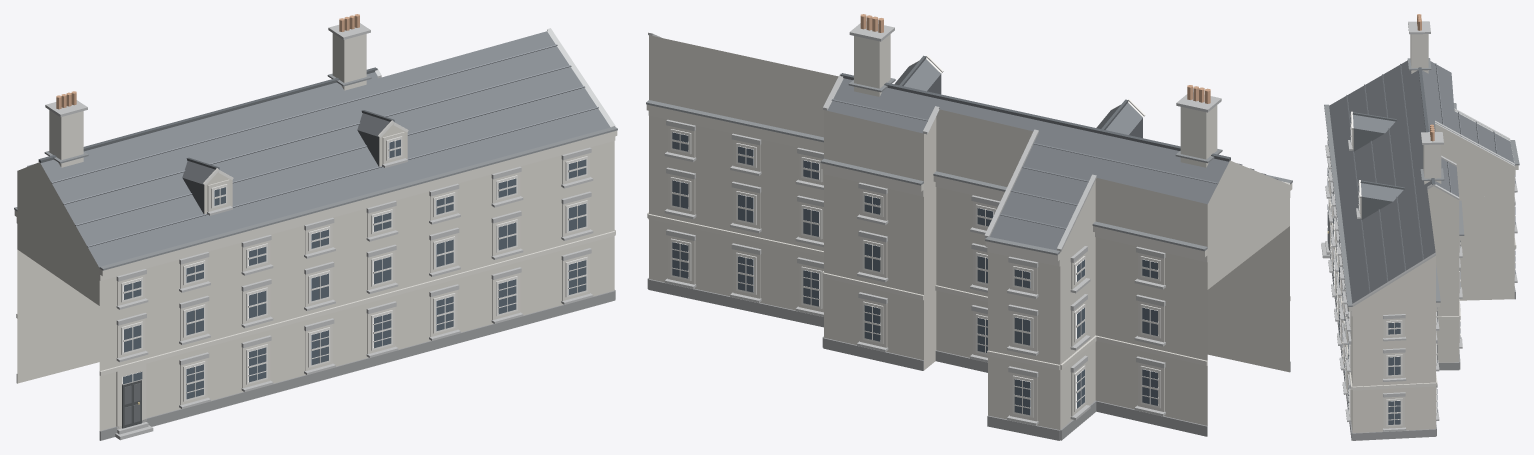
The picture shows the model from 3 angles, left to right: view 1: azimuth 30°, elevation 25°; view 2: azimuth 150°, elevation 25°; view 3: azimuth 270°, elevation 25°; orthographic projection. The views are drawn at different scales.
Parts seen in each view (by area): view 1: harl_grey, slate, string, stone_band, frame, plinth, slate_lt, chim_render, lead, slate_dk, pot, door_dark_p; view 2: harl_grey, slate, string, stone_band, frame, plinth, chim_render, lead, slate_dk, slate_lt, pot; view 3: harl_grey, slate, stone_band, string, frame, lead, slate_lt, slate_dk, chim_render, plinth, window_glass_052, window_glass_053.
Boxes of the visible parts, bbox=[...] form: harl_grey: bbox=[17, 125, 614, 430]; slate: bbox=[40, 31, 610, 267]; string: bbox=[14, 130, 617, 429]; stone_band: bbox=[45, 23, 615, 440]; frame: bbox=[121, 120, 587, 401]; plinth: bbox=[16, 290, 615, 440]; slate_lt: bbox=[27, 44, 598, 247]; chim_render: bbox=[49, 33, 366, 167]; lead: bbox=[14, 73, 617, 270]; slate_dk: bbox=[38, 67, 394, 213]; pot: bbox=[56, 14, 359, 109]; door_dark_p: bbox=[124, 383, 140, 424]; harl_grey: bbox=[649, 35, 1289, 429]; slate: bbox=[827, 59, 1229, 250]; string: bbox=[646, 104, 1292, 421]; stone_band: bbox=[648, 21, 1221, 425]; frame: bbox=[670, 55, 1160, 417]; plinth: bbox=[647, 278, 1290, 440]; chim_render: bbox=[854, 34, 1217, 167]; lead: bbox=[646, 78, 1292, 255]; slate_dk: bbox=[840, 55, 1230, 161]; slate_lt: bbox=[831, 99, 1278, 229]; pot: bbox=[860, 14, 1210, 103]; harl_grey: bbox=[1330, 123, 1514, 432]; slate: bbox=[1329, 60, 1514, 303]; stone_band: bbox=[1321, 21, 1517, 431]; string: bbox=[1328, 129, 1518, 428]; frame: bbox=[1327, 111, 1515, 426]; lead: bbox=[1324, 58, 1519, 306]; slate_lt: bbox=[1346, 63, 1497, 292]; slate_dk: bbox=[1352, 67, 1435, 219]; chim_render: bbox=[1410, 34, 1441, 184]; plinth: bbox=[1329, 249, 1515, 440]; window_glass_052: bbox=[1388, 400, 1400, 424]; window_glass_053: bbox=[1388, 356, 1400, 375].
Size of the model in its own units: 26.71 by 14.17 by 11.02.
